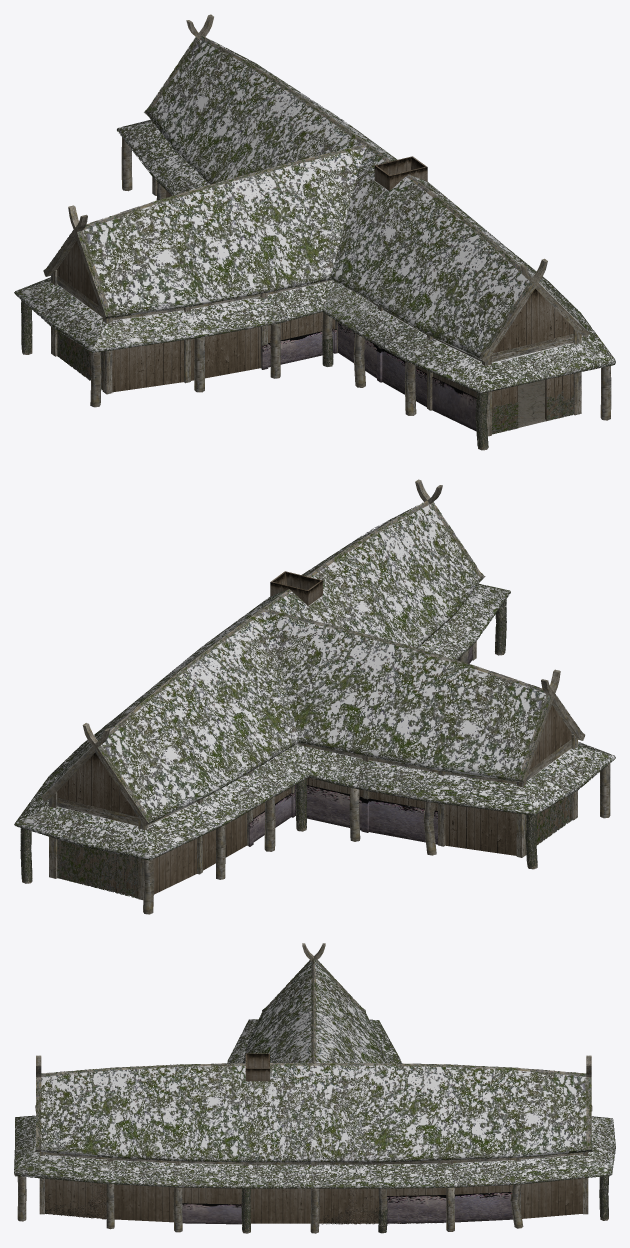
File: T-House_LOD02.fbx
3 views of the same model, one above another, from view 1: azimuth 30°, elevation 25°; view 2: azimuth 150°, elevation 25°; view 3: azimuth 270°, elevation 25° (orthographic). The views are drawn at different scales.
Parts seen in each view (by area): view 1: T-House_LOD02; view 2: T-House_LOD02; view 3: T-House_LOD02.
Part boxes in pixels (bbox=[...]): T-House_LOD02: bbox=[14, 14, 615, 450]; T-House_LOD02: bbox=[14, 479, 615, 914]; T-House_LOD02: bbox=[14, 943, 615, 1233].
Size of the model in its own units: 1465 by 548 by 2211.
